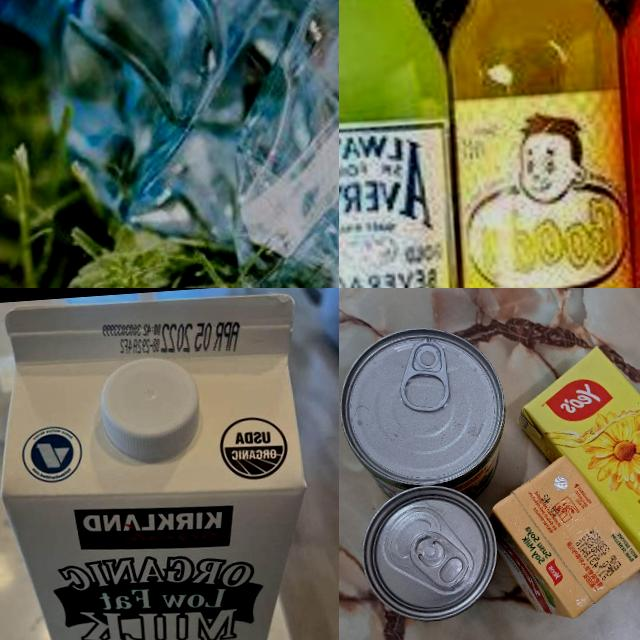aba de lata: (396, 339, 454, 416), (409, 526, 473, 592)
caixinha: (0, 288, 327, 640), (515, 330, 640, 605), (486, 448, 640, 620)
garrafa de vidro: (421, 0, 640, 288), (339, 0, 470, 288)
garrafa plástica: (0, 0, 339, 288)
lata: (339, 321, 509, 509), (356, 479, 503, 626)
tampa plástica: (95, 354, 203, 466)
